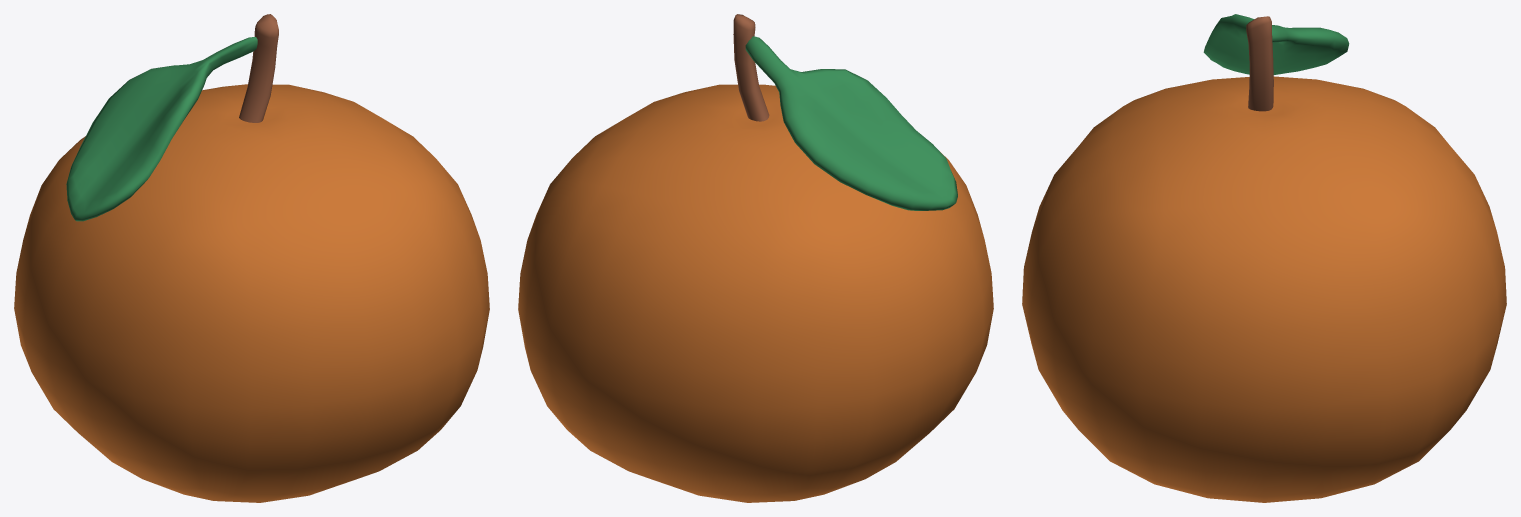
The model's file is Orange_01.dae.
3 views of the same model, side by side, from view 1: azimuth 30°, elevation 25°; view 2: azimuth 150°, elevation 25°; view 3: azimuth 270°, elevation 25° (orthographic). The views are drawn at different scales.
Parts seen in each view (by area): view 1: Orange_01_LOD0; view 2: Orange_01_LOD0; view 3: Orange_01_LOD0.
Part boxes in pixels (x1=…): Orange_01_LOD0: x1=14, y1=14, x2=489, y2=502; Orange_01_LOD0: x1=518, y1=14, x2=993, y2=502; Orange_01_LOD0: x1=1022, y1=14, x2=1506, y2=502.
Size of what is drawn, in the model's own units: 4.11 by 4.13 by 4.39.
